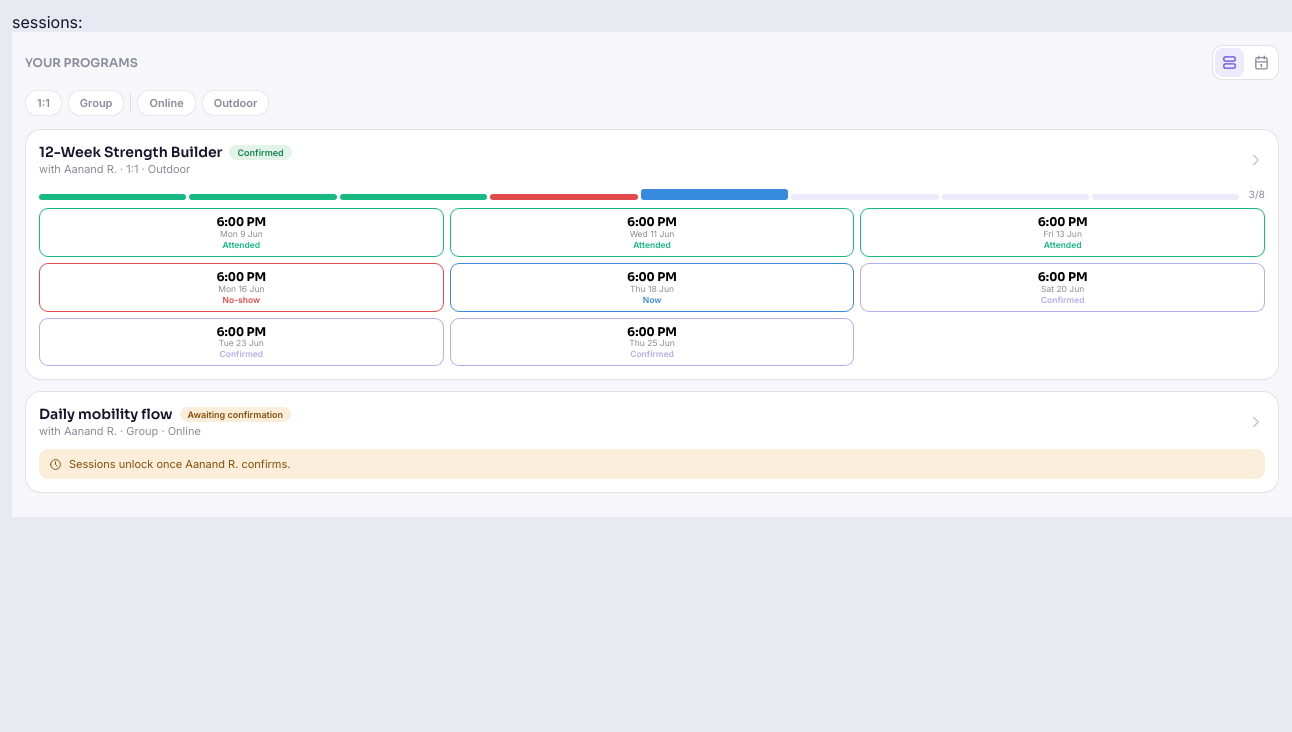
Test: BookedScreen › lists programs by name and opens one
Expected: the text "YOUR PROGRAMS" is shown, [25,55,138,70]
Click the text "12-Week Strength Builder" at (131, 152), box [39,143,222,161]
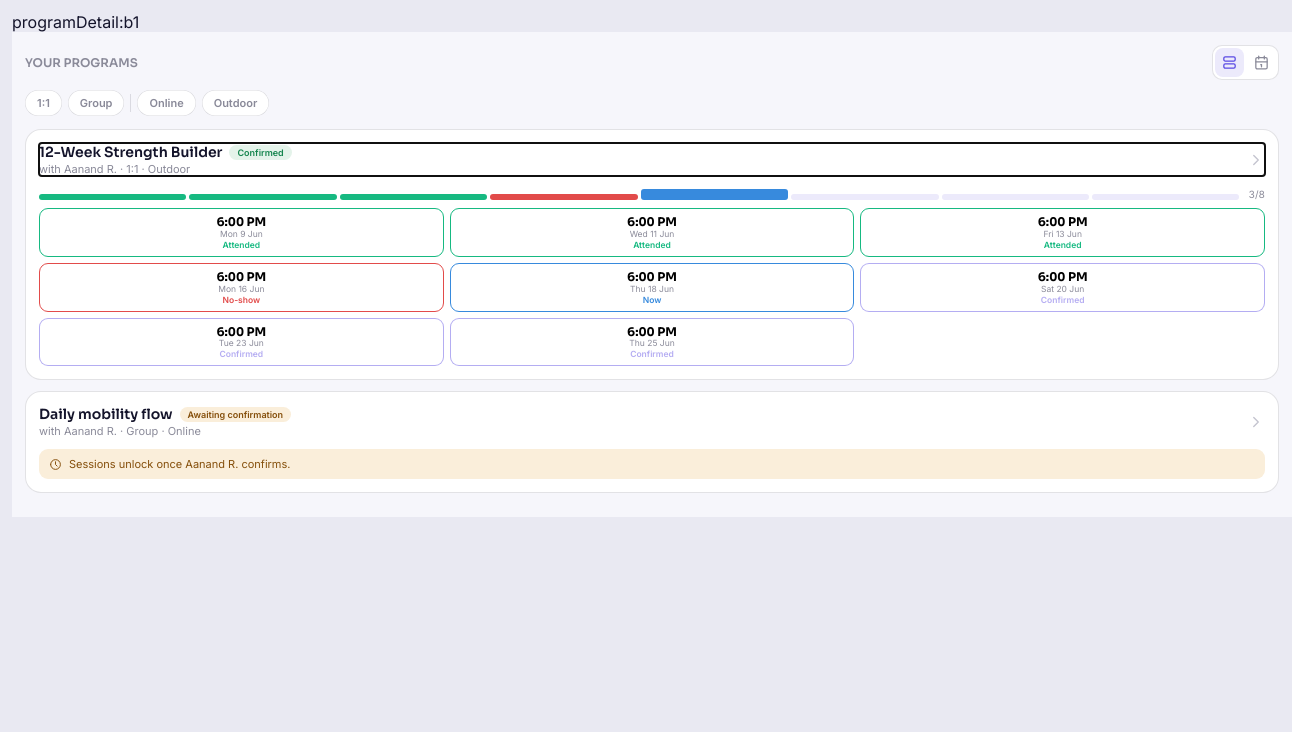
Result: the text with test id "cur" reads "programDetail:b1" at [12,12,139,32]
